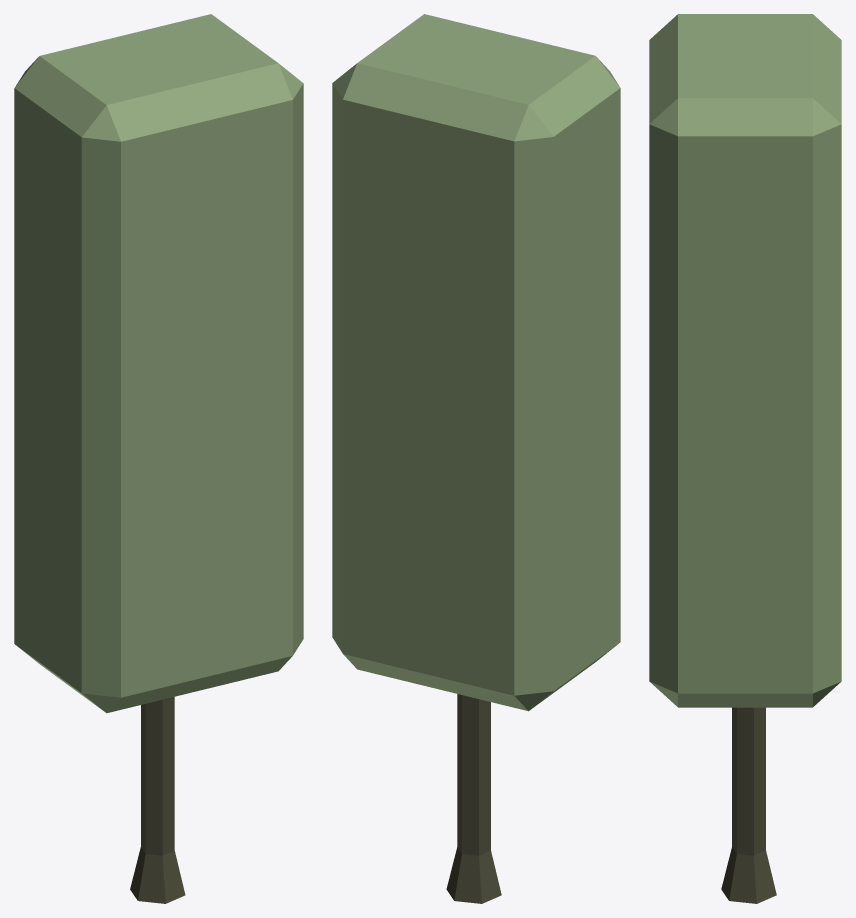
The model's file is Tree6.fbx.
3 renders of one model, left to right at view 1: azimuth 30°, elevation 25°; view 2: azimuth 150°, elevation 25°; view 3: azimuth 270°, elevation 25°, orthographic.
Parts seen in each view (by area): view 1: Tree6Canopy, Tree6Trunk; view 2: Tree6Canopy, Tree6Trunk; view 3: Tree6Canopy, Tree6Trunk.
Part boxes in pixels (<box>): Tree6Canopy: <box>14,14,303,713</box>; Tree6Trunk: <box>130,697,185,903</box>; Tree6Canopy: <box>332,14,620,711</box>; Tree6Trunk: <box>446,694,501,903</box>; Tree6Canopy: <box>649,14,841,707</box>; Tree6Trunk: <box>721,707,776,903</box>.
Size of the model in its own units: 2 by 7.19 by 1.5.
